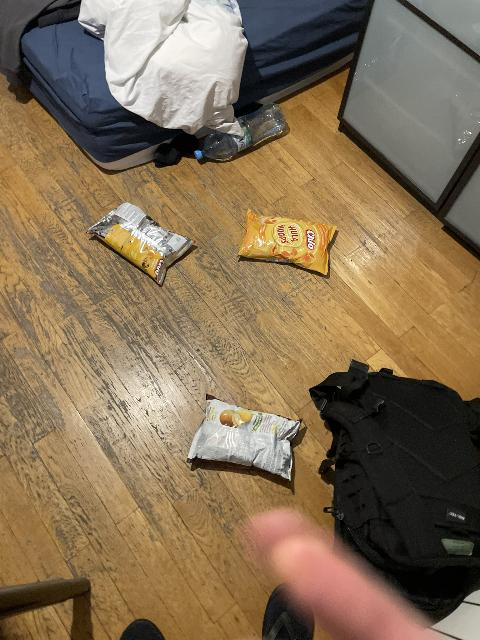Chio Cascaval 125g: (87, 202, 199, 288)
Chio Hula Hoops Cheese 70g: (235, 207, 335, 274)
Lays Beef Grilled Ribs 125g: (186, 393, 301, 479)
